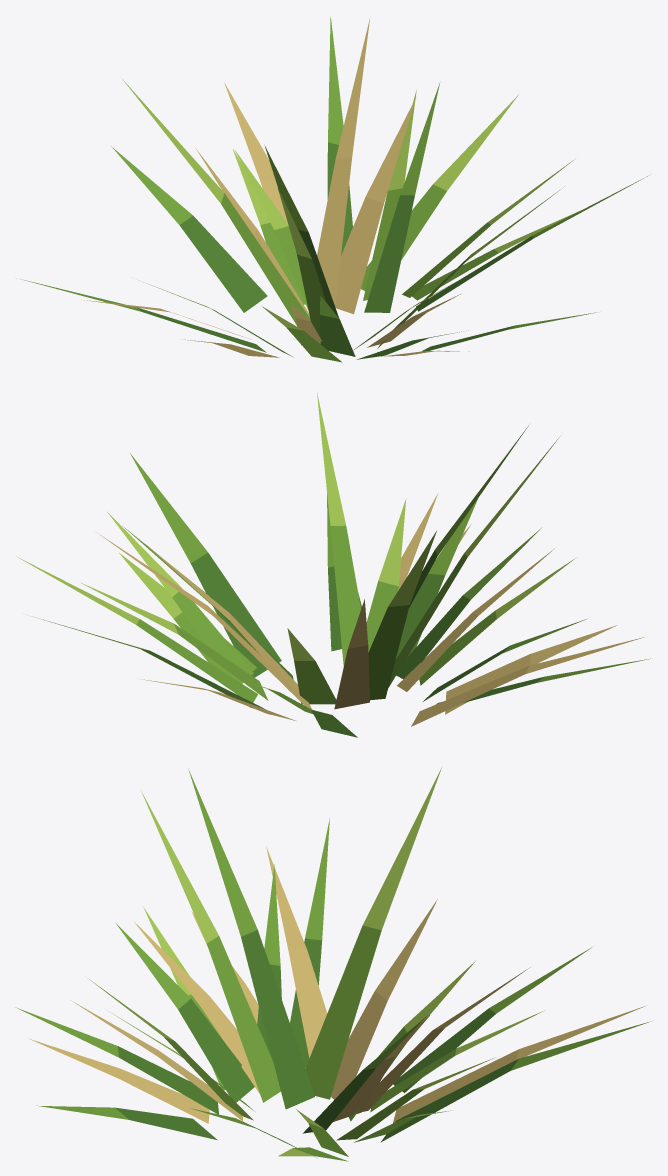
The model's file is G15_TrampledGrass.glb.
The picture shows the model from 3 angles, top to bottom: view 1: azimuth 30°, elevation 25°; view 2: azimuth 150°, elevation 25°; view 3: azimuth 270°, elevation 25°; orthographic projection. The views are drawn at different scales.
Visible parts, largest first — view 1: G15_TrampledGrass; view 2: G15_TrampledGrass; view 3: G15_TrampledGrass.
Boxes of the visible parts, x1=… form: G15_TrampledGrass: x1=20, y1=17, x2=649, y2=362; G15_TrampledGrass: x1=16, y1=393, x2=650, y2=737; G15_TrampledGrass: x1=15, y1=767, x2=650, y2=1161.
Size of the model in its own units: 2.22 by 0.9547 by 1.98.
